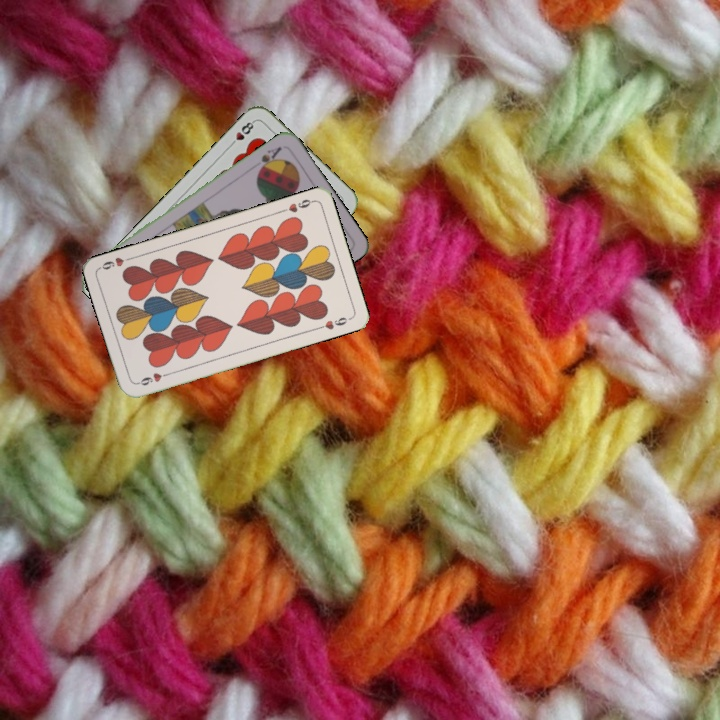H8: (226, 117, 257, 149)
H9: (277, 195, 317, 215), (133, 369, 173, 388)
SA: (254, 143, 285, 175)
